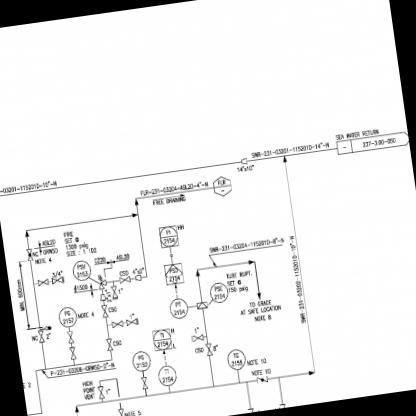LMI: (223, 340, 247, 372), (127, 347, 152, 373), (54, 301, 78, 328), (67, 257, 92, 282), (155, 364, 180, 388), (208, 276, 229, 304), (166, 296, 189, 321)
TAG: (156, 219, 178, 249), (150, 325, 172, 350)
